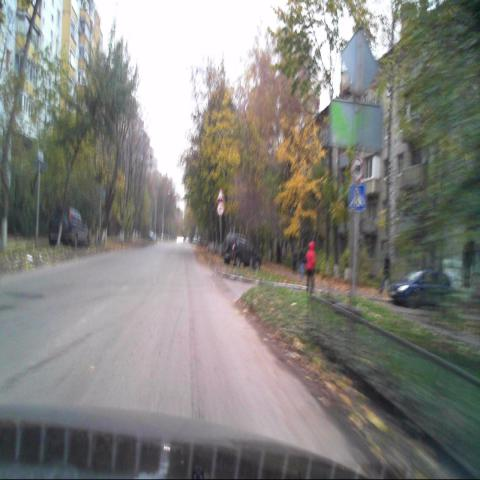1_16: (216, 188, 224, 202)
3_24: (216, 202, 223, 214)
3_4_1: (350, 157, 362, 185)
5_19_1: (349, 186, 363, 211)
